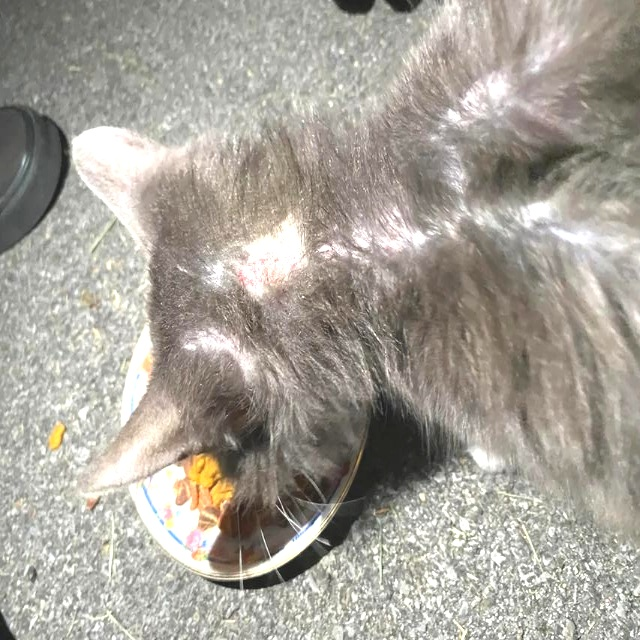hairloss: (339, 193, 544, 259), (208, 223, 313, 300), (183, 327, 257, 373)
